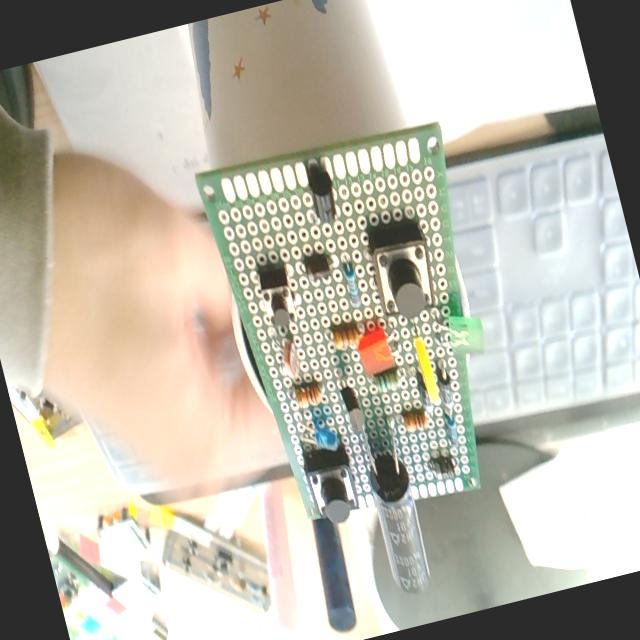Electrolytic capacitor: (351, 410, 444, 610)
cds: (265, 326, 310, 392)
diode: (294, 246, 343, 295), (422, 448, 466, 491), (430, 354, 460, 416)
led: (426, 296, 494, 369), (402, 319, 443, 413), (350, 321, 410, 382), (291, 406, 344, 460)
resistor: (321, 308, 370, 355), (362, 359, 412, 399), (283, 378, 331, 418), (334, 248, 364, 306), (398, 404, 433, 440), (439, 407, 463, 449)
switch: (355, 205, 446, 331), (297, 440, 368, 535), (246, 248, 308, 338)
transistor: (296, 148, 352, 245), (332, 363, 370, 442)
